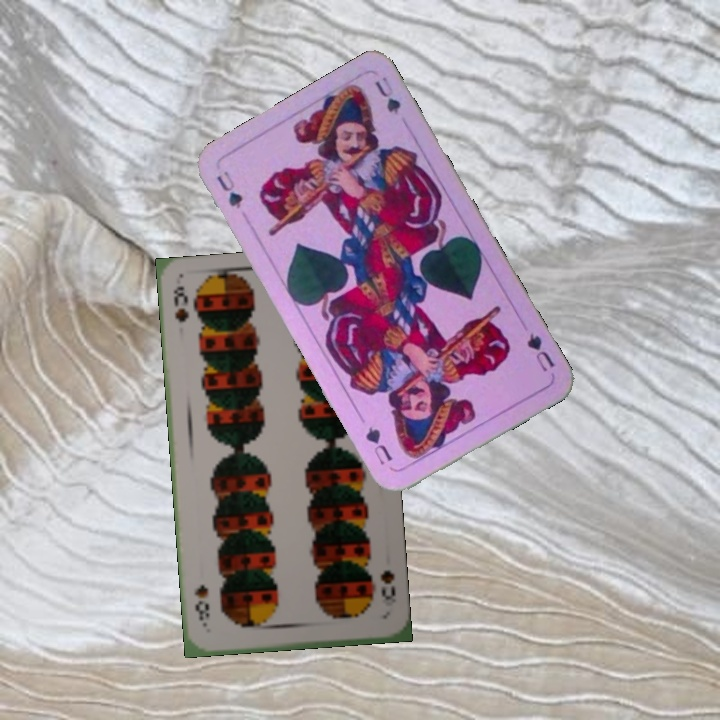GU: (522, 329, 558, 375), (212, 166, 246, 212)
S8: (376, 566, 399, 609), (169, 282, 191, 325)
